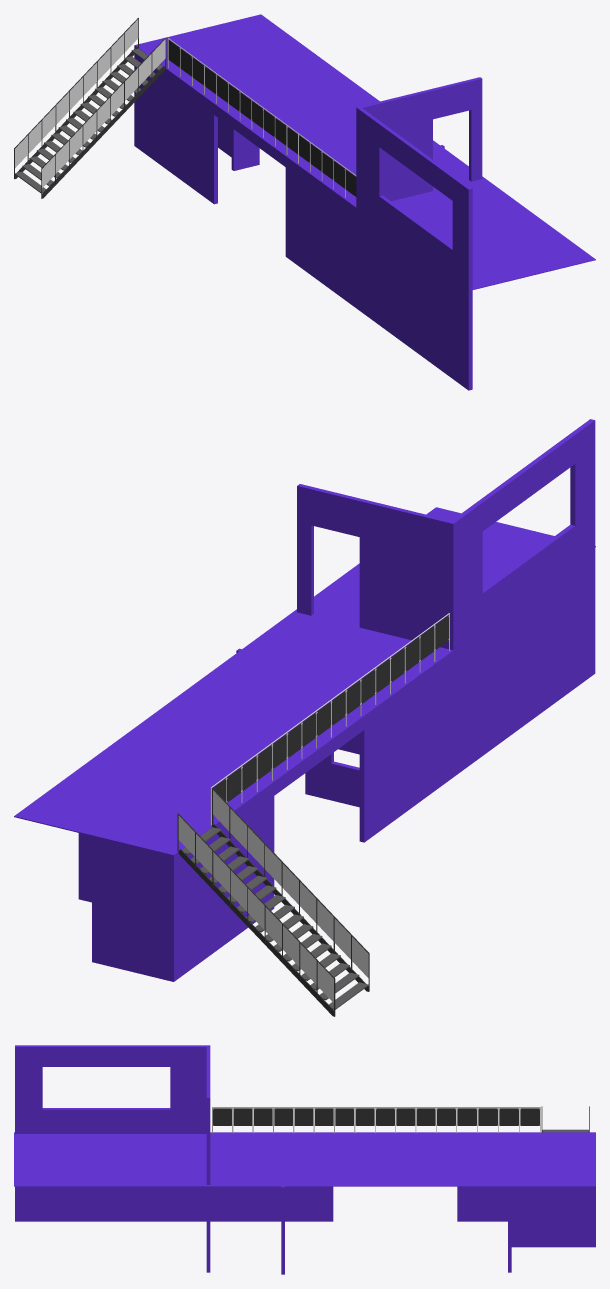
The model's file is Lower Floor.fbx.
3 views of the same model, one above another, from view 1: azimuth 30°, elevation 25°; view 2: azimuth 150°, elevation 25°; view 3: azimuth 270°, elevation 25° (orthographic). The views are drawn at different scales.
Visible parts, largest first — view 1: bottom, ground, top, BagaPie_StairLinear.001, NurbsPath; view 2: bottom, ground, top, BagaPie_StairLinear.001, NurbsPath; view 3: ground, bottom, top, NurbsPath.
Part boxes in pixels (box(x1,y1,x2,y2)): bottom: box(134, 45, 472, 390); ground: box(134, 14, 595, 290); top: box(356, 77, 482, 289); BagaPie_StairLinear.001: box(14, 18, 166, 198); NurbsPath: box(168, 38, 356, 197); bottom: box(78, 547, 595, 981); ground: box(14, 507, 595, 855); top: box(297, 419, 595, 650); BagaPie_StairLinear.001: box(177, 788, 369, 1016); NurbsPath: box(210, 613, 449, 825); ground: box(14, 1132, 595, 1186); bottom: box(15, 1186, 595, 1274); top: box(15, 1045, 210, 1184); NurbsPath: box(212, 1107, 540, 1133).
Size of the model in its own units: 1319 by 1000 by 3020.
